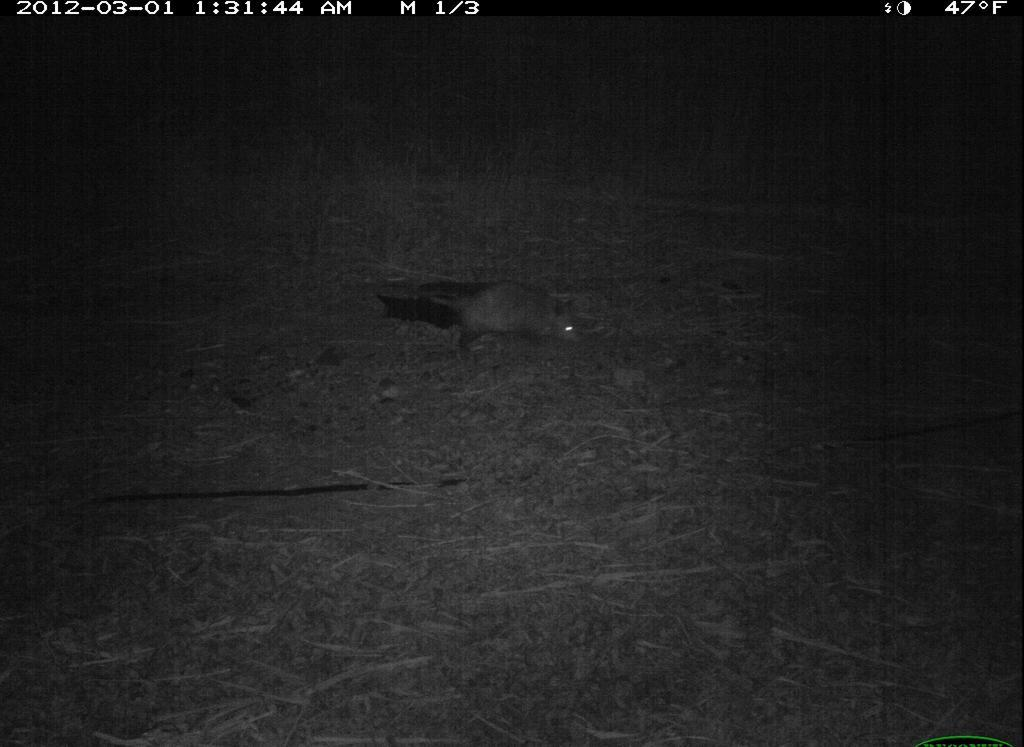opossum: (391, 260, 588, 370)
